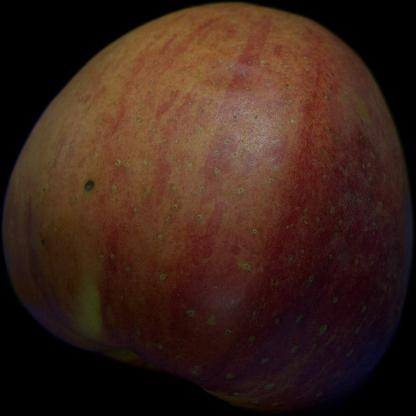defect: (59, 172, 143, 232)
